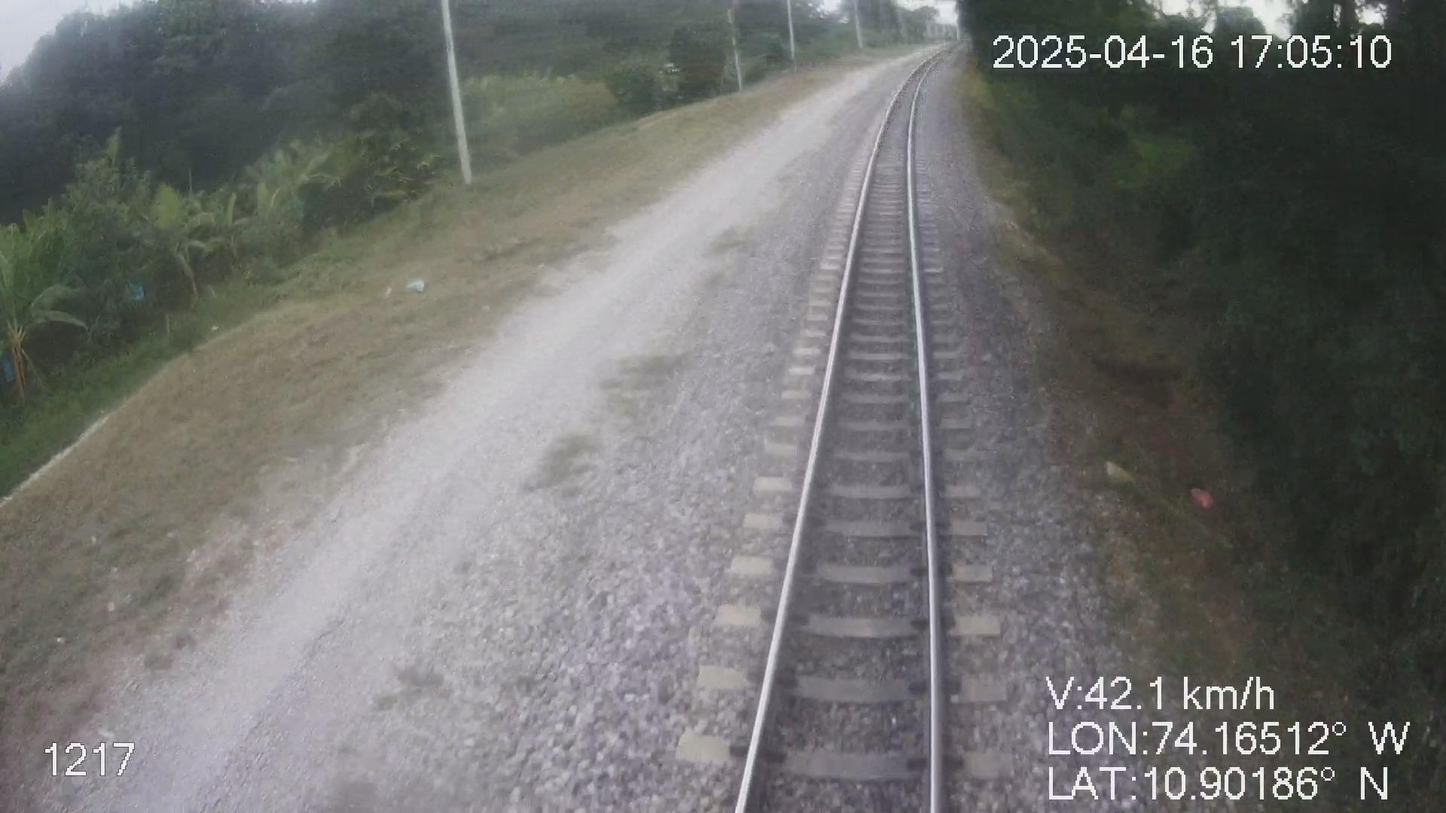Pasto: (0, 0, 958, 761), (954, 0, 1445, 812)
